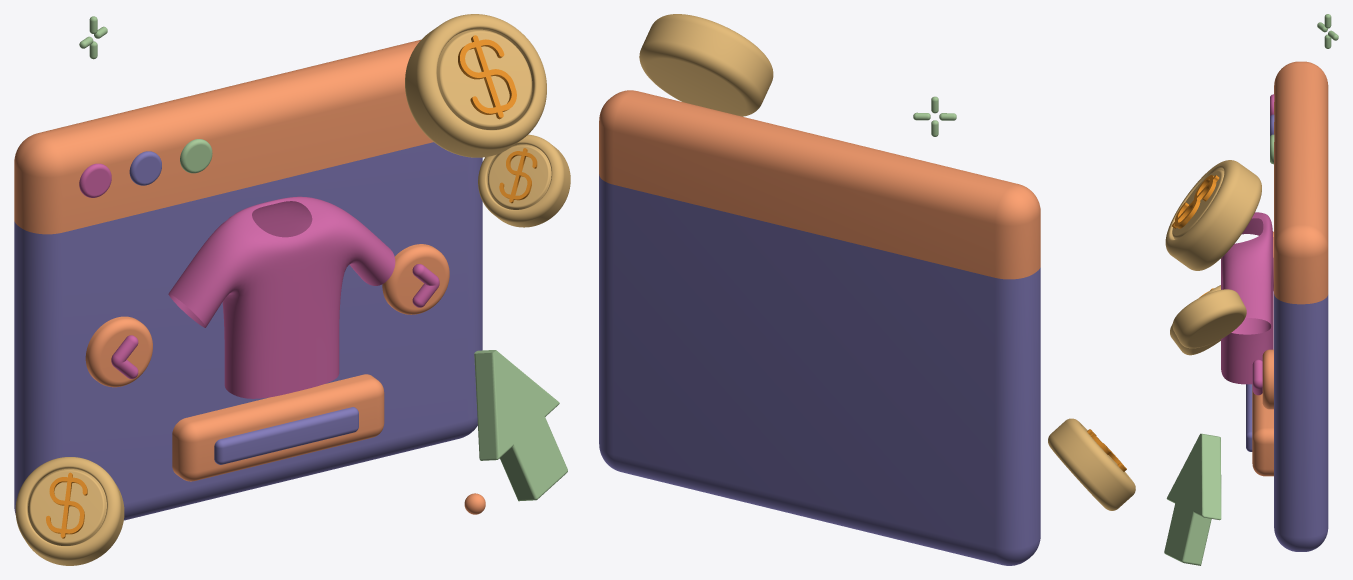
Rendered from buy-now-3d-animated-icon-31802134964.glb.
3 renders of one model, left to right at view 1: azimuth 30°, elevation 25°; view 2: azimuth 150°, elevation 25°; view 3: azimuth 270°, elevation 25°, orthographic. The views are drawn at different scales.
Parts seen in each view (by area): view 1: Cube.003, Cube.001, Cylinder.009, Cube.019, Cube.020, Cylinder.003, Cylinder.004, Cube.021, Cylinder.002, Cylinder.001, Cylinder, Curve (+4 smaller); view 2: Cube.003, Cylinder.009, Cylinder.003; view 3: Cube.003, Cube.001, Cylinder.009, Cube.020, Cylinder.004, Cube.019, Curve, Cylinder.001, Cube.021, Cylinder.003, Plane.002, Cylinder.020 (+1 smaller).
Boxes of the visible parts, left/top/right/bottom form: Cube.003: left=14, top=39, right=482, bottom=520; Cube.001: left=168, top=196, right=395, bottom=398; Cylinder.009: left=405, top=14, right=546, bottom=157; Cube.019: left=172, top=374, right=384, bottom=481; Cube.020: left=474, top=350, right=567, bottom=501; Cylinder.003: left=15, top=457, right=124, bottom=565; Cylinder.004: left=478, top=134, right=570, bottom=227; Cube.021: left=214, top=407, right=358, bottom=464; Cylinder.002: left=85, top=316, right=152, bottom=387; Cylinder.001: left=382, top=244, right=449, bottom=314; Cylinder: left=79, top=139, right=212, bottom=197; Curve: left=458, top=35, right=516, bottom=119; Cube.003: left=599, top=90, right=1040, bottom=565; Cylinder.009: left=639, top=14, right=773, bottom=116; Cylinder.003: left=1048, top=418, right=1135, bottom=510; Cube.003: left=1274, top=61, right=1328, bottom=551; Cube.001: left=1221, top=212, right=1273, bottom=384; Cylinder.009: left=1165, top=160, right=1261, bottom=270; Cube.020: left=1164, top=433, right=1221, bottom=565; Cylinder.004: left=1172, top=289, right=1246, bottom=348; Cube.019: left=1252, top=384, right=1273, bottom=476; Curve: left=1172, top=175, right=1219, bottom=228; Cylinder.001: left=1262, top=349, right=1273, bottom=409; Cube.021: left=1246, top=384, right=1252, bottom=451; Cylinder.003: left=1170, top=285, right=1220, bottom=355; Plane.002: left=1252, top=359, right=1262, bottom=395; Cylinder.020: left=1317, top=14, right=1338, bottom=48.
Size of what is drawn, in the model's own units: 1.9 by 1.74 by 0.6589.
